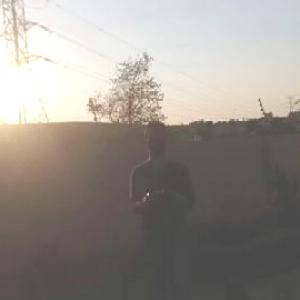follow: (125, 115, 201, 299)
